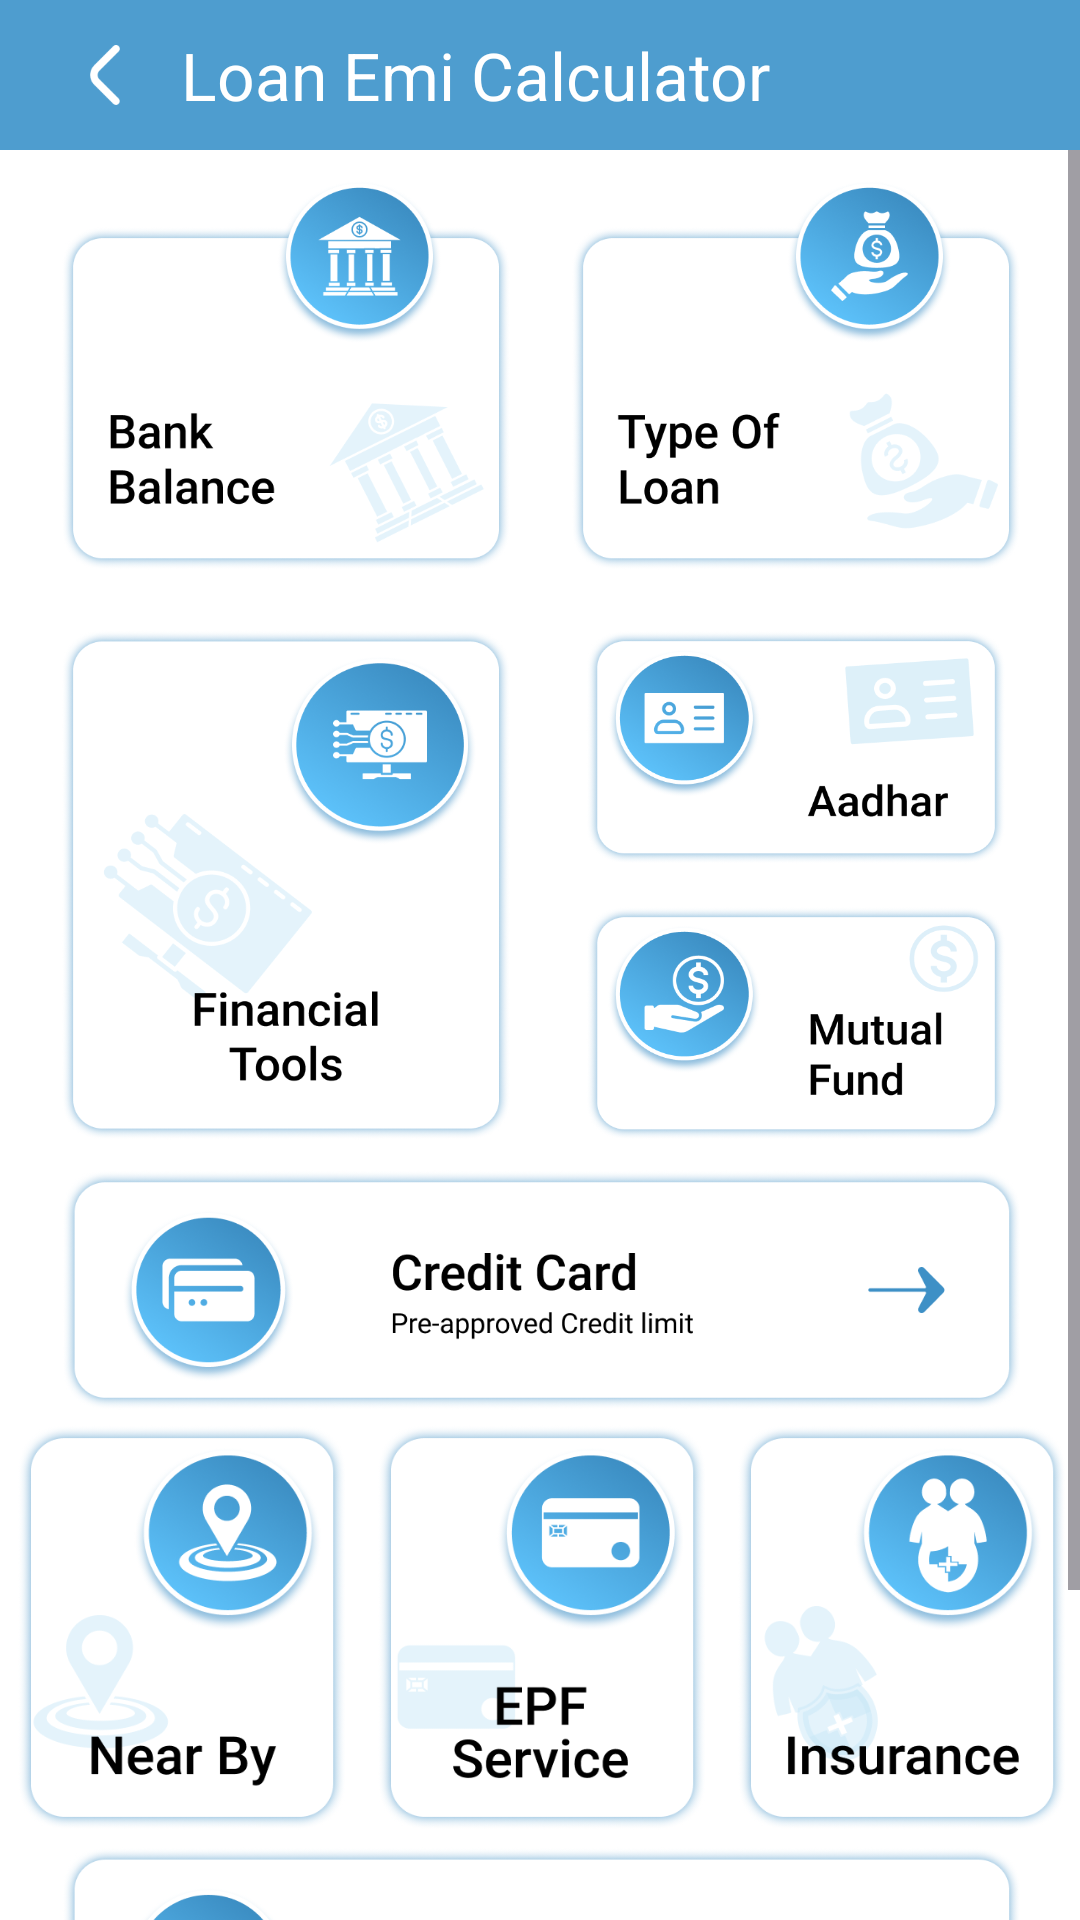

Screen size 1080px x 1920px. Icon name, then its box in pixels as (x1, y1, x2, y2):
back: (90, 45, 120, 105)
